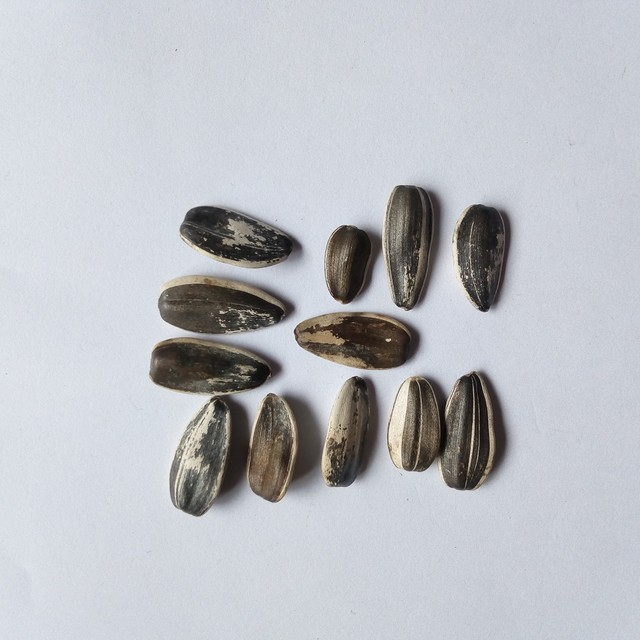girasol: (444, 355, 508, 502), (153, 398, 231, 514), (153, 272, 293, 336), (175, 199, 302, 269), (140, 332, 278, 396), (448, 198, 520, 318), (318, 370, 382, 500), (377, 178, 437, 315), (294, 310, 420, 373), (382, 370, 445, 478), (251, 392, 308, 510), (312, 218, 372, 303)
